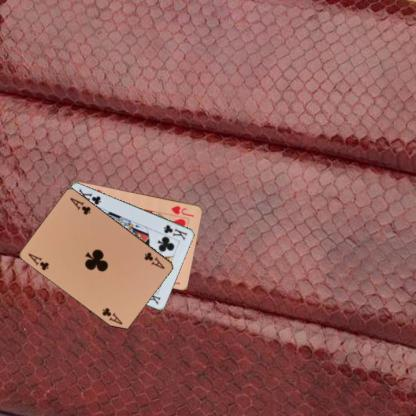Ac: (26, 250, 50, 272), (142, 250, 166, 270)
Jh: (169, 203, 195, 218)
Kc: (162, 222, 188, 241)
